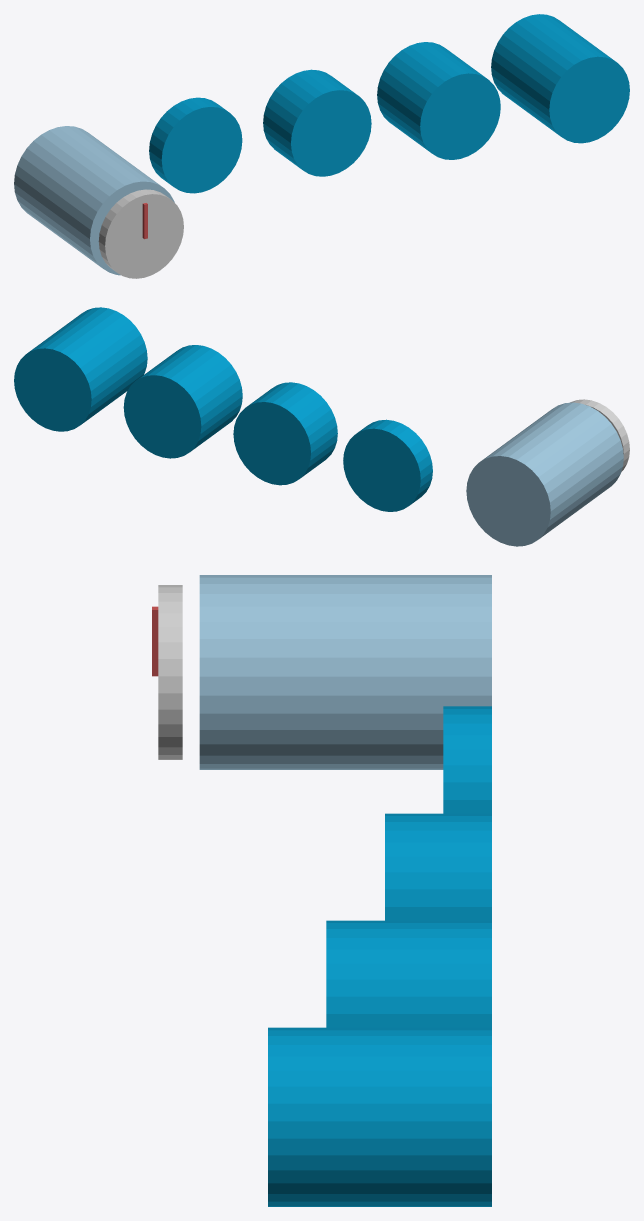
The model's file is meteran_pdam_3d.glb.
3 views of the same model, one above another, from view 1: azimuth 30°, elevation 25°; view 2: azimuth 150°, elevation 25°; view 3: azimuth 270°, elevation 25° (orthographic). The views are drawn at different scales.
Visible parts, largest first — view 1: world; view 2: world; view 3: world.
Boxes of the visible parts, x1,y1,x2,y2 form: world: (14,14,629,278); world: (14,307,629,546); world: (152,575,491,1206).
Size of the model in its own units: 12.72 by 2 by 3.49.
